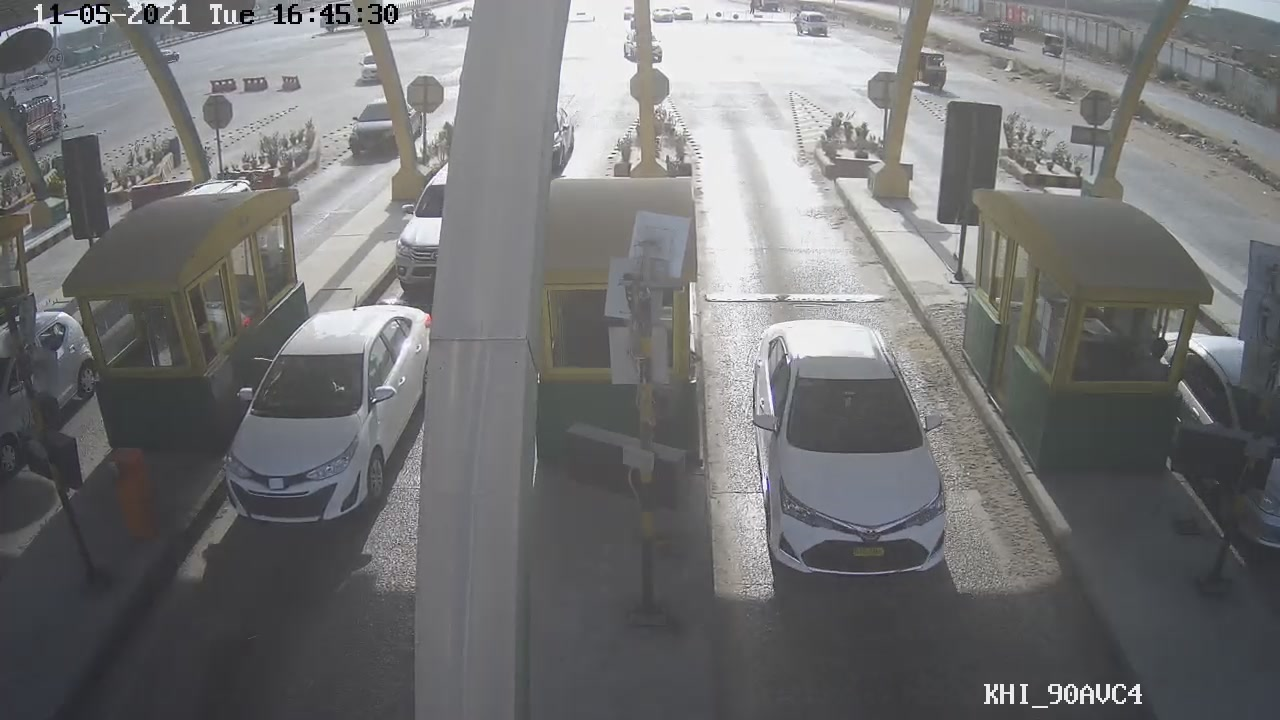F1: (734, 316, 956, 581)
